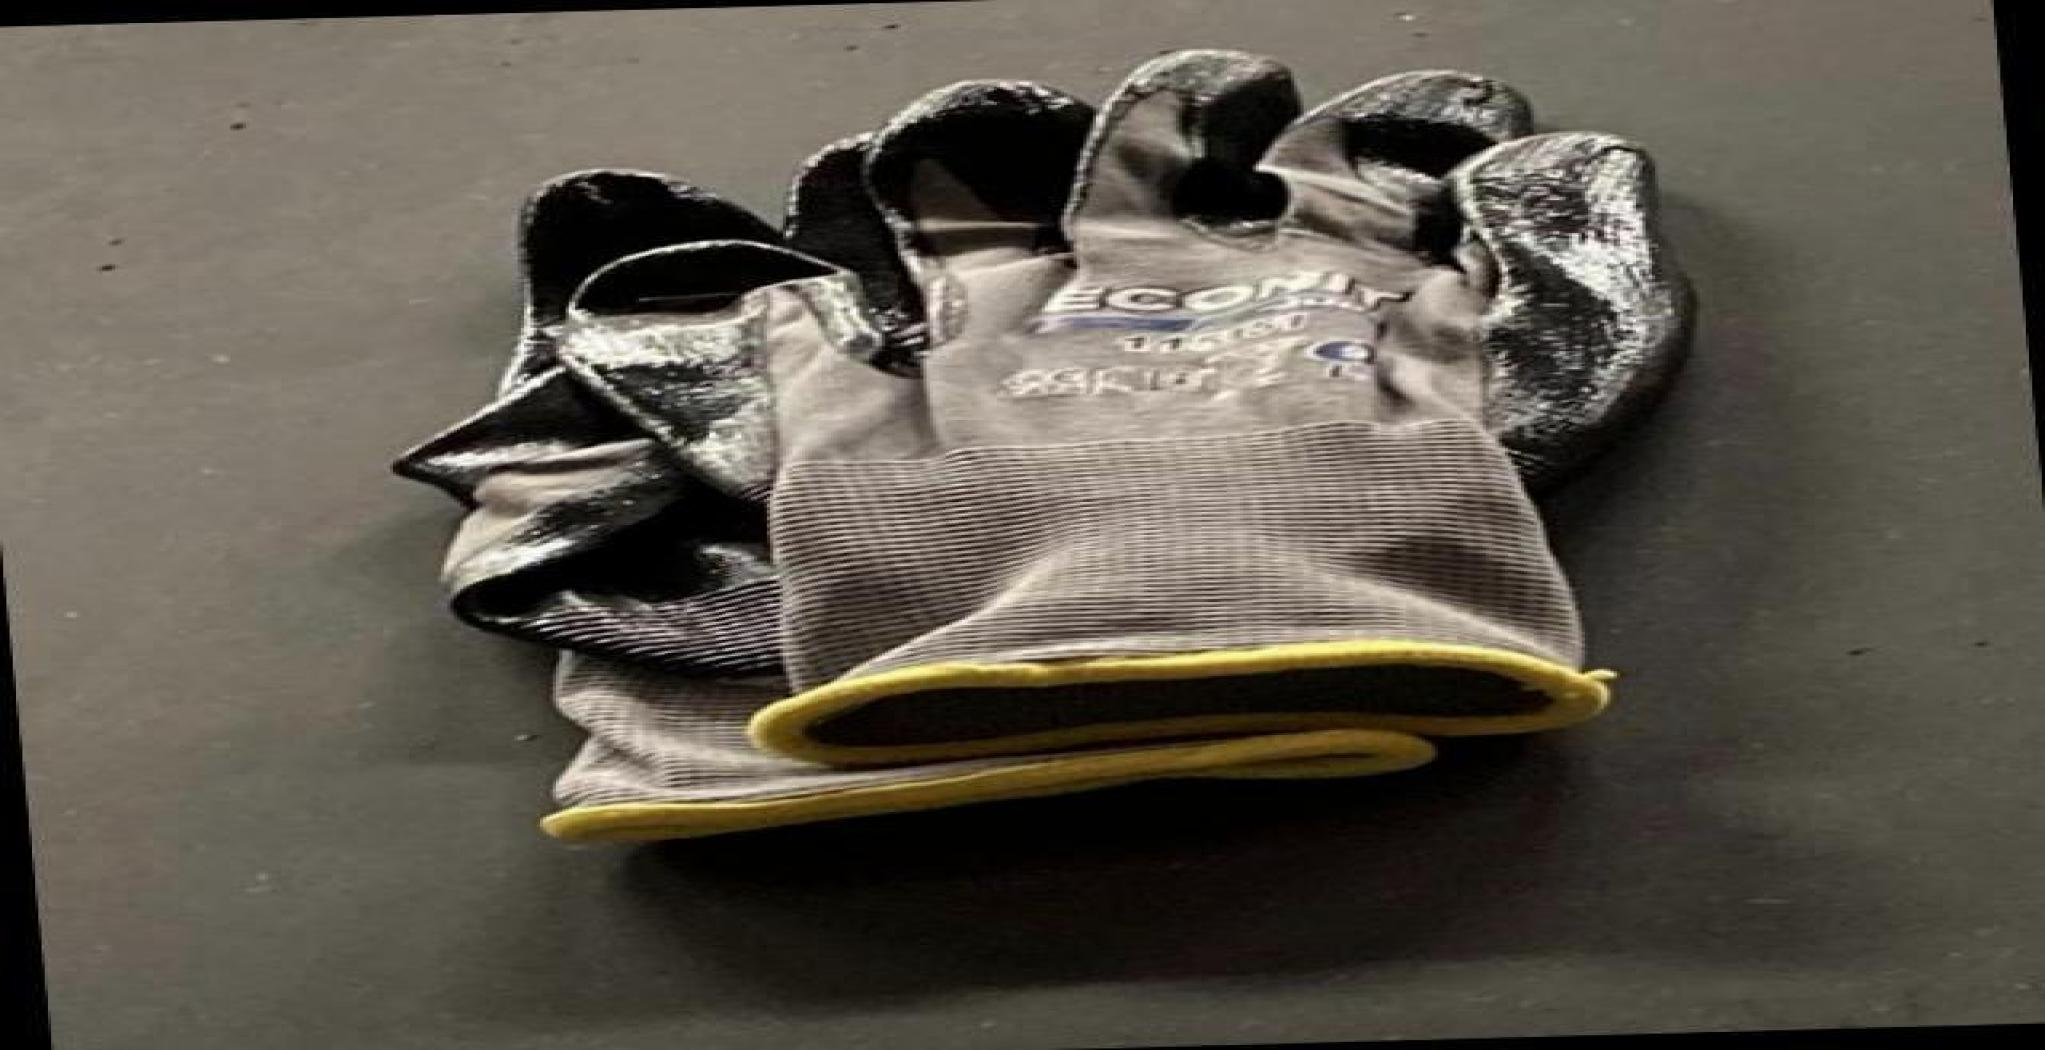gloved: (438, 55, 1718, 818)
